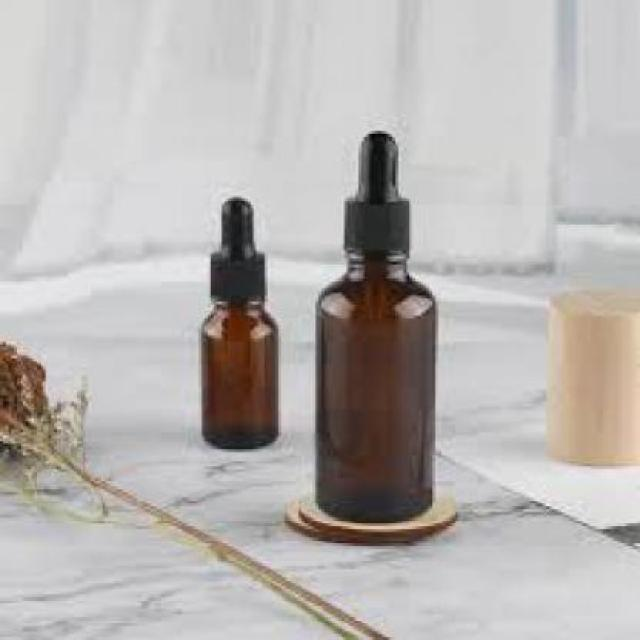kaca: (312, 248, 432, 523), (200, 296, 280, 450)
